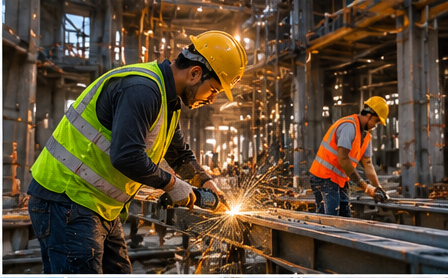hardhat: (186, 21, 245, 103), (367, 86, 393, 124)
person: (23, 11, 249, 270), (306, 80, 408, 218)
safety_vest: (31, 50, 166, 220), (312, 117, 364, 185)
